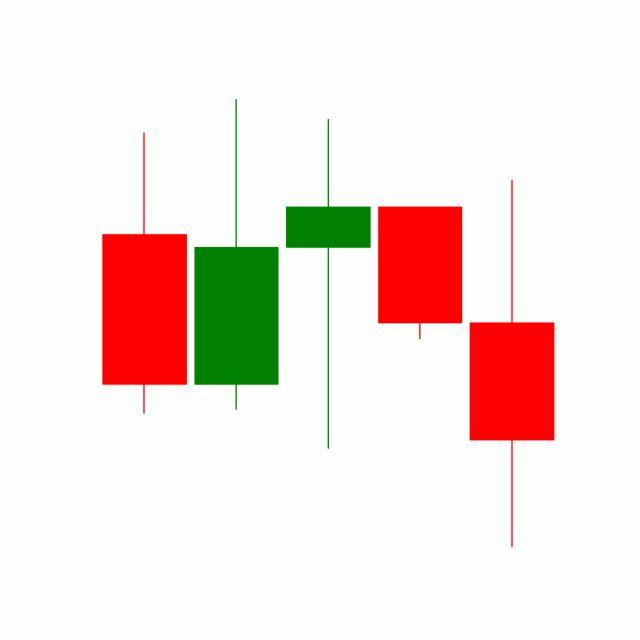Marubozu: (374, 205, 468, 342)
